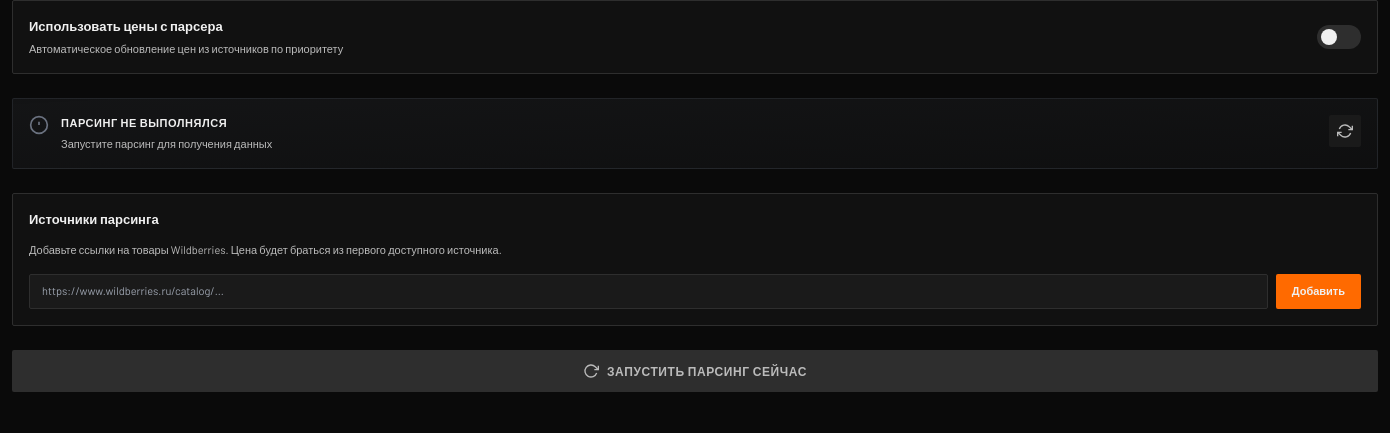
Test: ProductParserConfig › URL validation › должен показать ошибку для не-http протокола
The width and height of the screenshot is (1390, 433).
Step 1. Type "ftp://example.com" into the field with placeholder "https://www.wildberries.ru/catalog/..." → (648, 291), box top-left (29, 274), bottom-right (1268, 308)
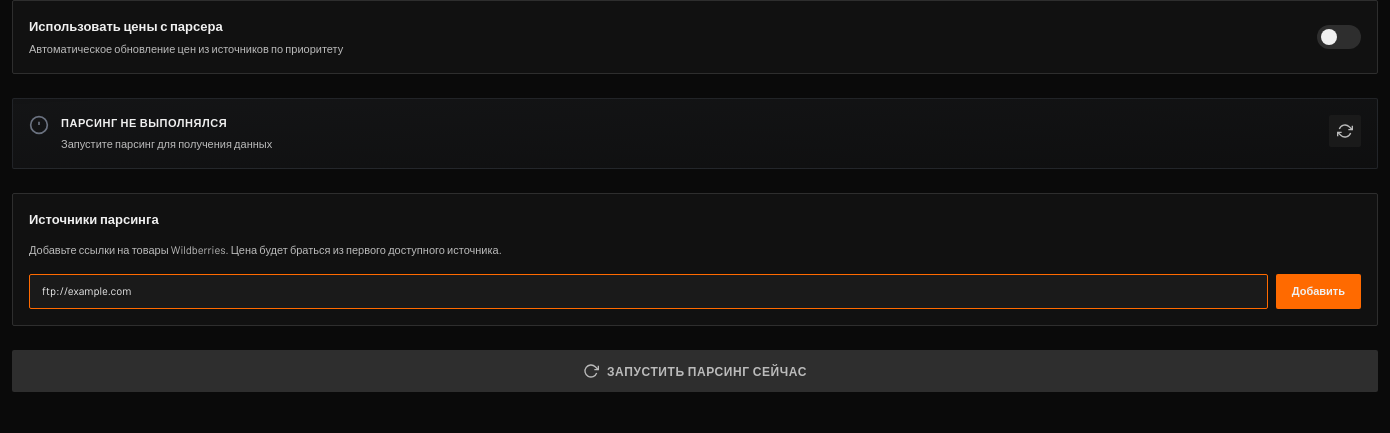
Step 2. Click the button "Добавить" → (1318, 291), box top-left (1276, 274), bottom-right (1361, 308)
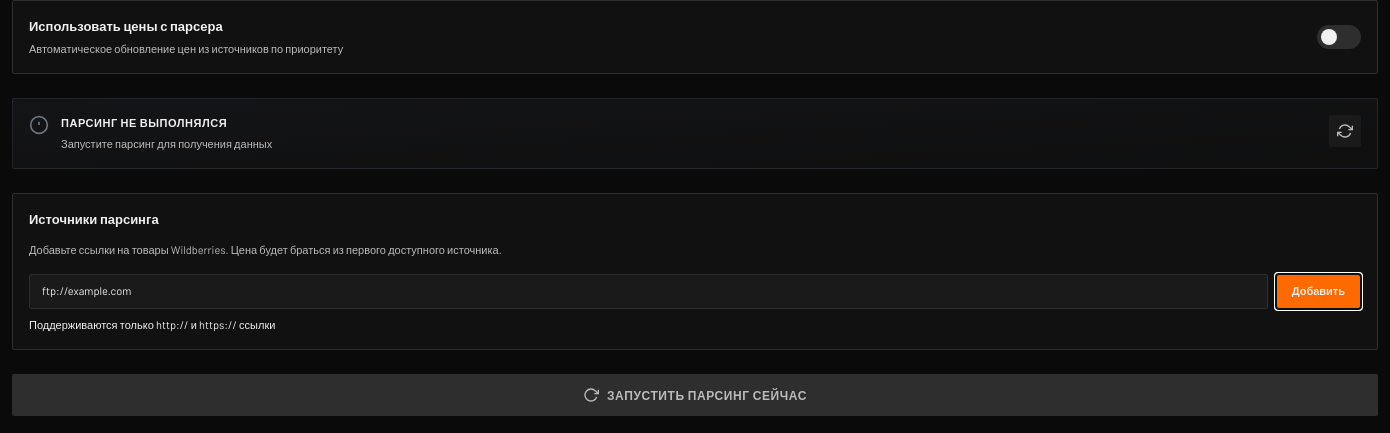
Expected: the text "Поддерживаются только http:// и https:// ссылки" is shown, top-left (29, 318), bottom-right (275, 330)
